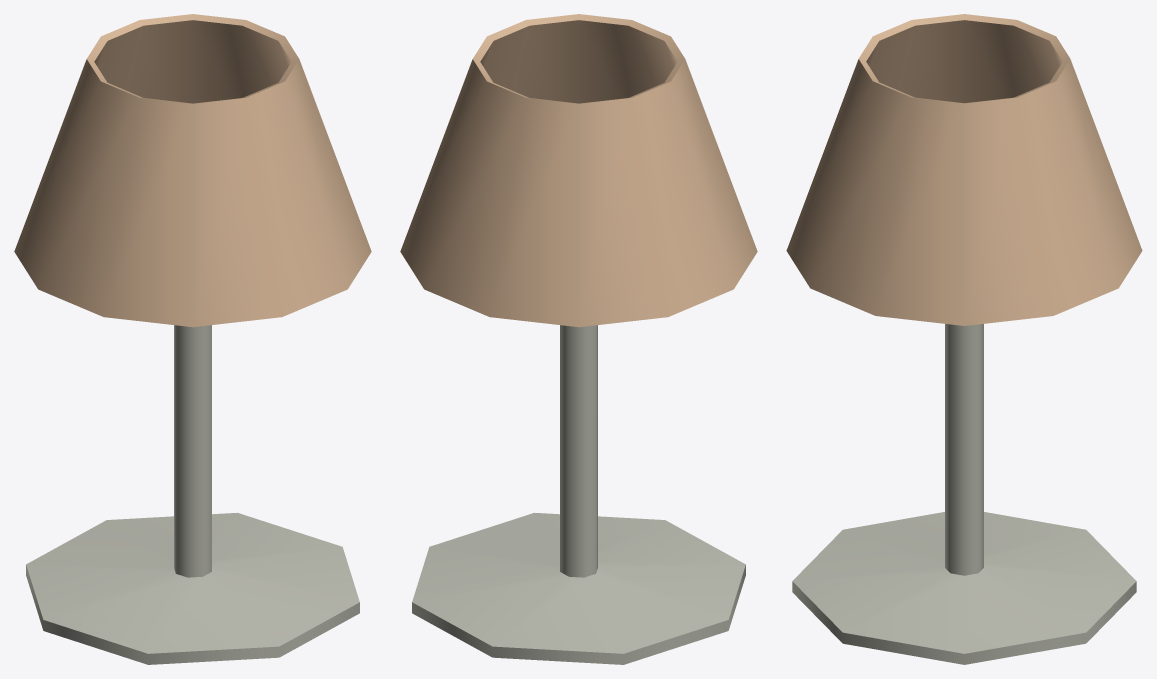
File: lamp.fbx
3 renders of one model, left to right at view 1: azimuth 30°, elevation 25°; view 2: azimuth 150°, elevation 25°; view 3: azimuth 270°, elevation 25°, orthographic.
Visible parts, largest first — view 1: lamp; view 2: lamp; view 3: lamp.
Part boxes in pixels (x1,y1,x2,y2): lamp: (14, 14, 371, 664); lamp: (400, 14, 757, 664); lamp: (786, 14, 1142, 664).
Bounding box in the file's own units: 22.49 × 37.18 × 22.49.
